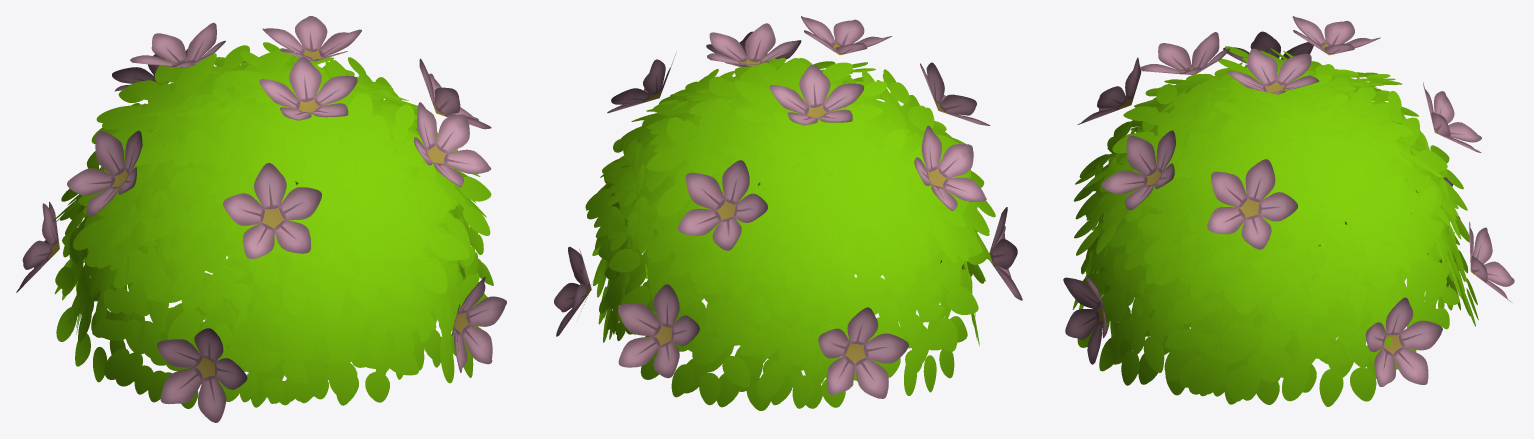
Rendered from Bush_Flowers.gltf.
3 renders of one model, left to right at view 1: azimuth 30°, elevation 25°; view 2: azimuth 150°, elevation 25°; view 3: azimuth 270°, elevation 25°, orthographic. The views are drawn at different scales.
Parts seen in each view (by area): view 1: Bush_Flowers; view 2: Bush_Flowers; view 3: Bush_Flowers.
Boxes of the visible parts, x1,y1,x2,y2 form: Bush_Flowers: [16, 16, 506, 422]; Bush_Flowers: [554, 16, 1022, 410]; Bush_Flowers: [1063, 16, 1514, 406].
Size of the model in its own units: 1.09 by 0.7585 by 1.11.
Materials: 2 (2 with a texture image).
